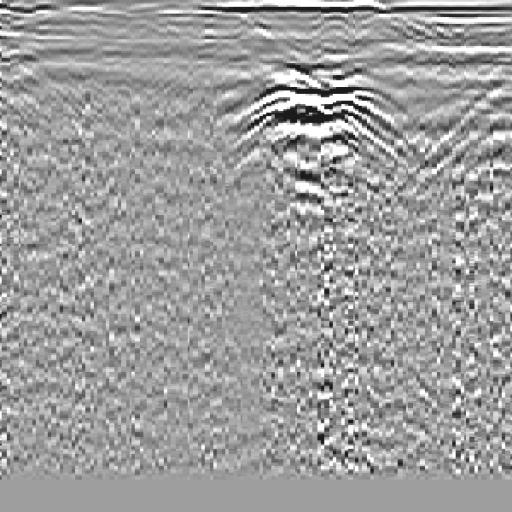metalic: (202, 36, 426, 263)
